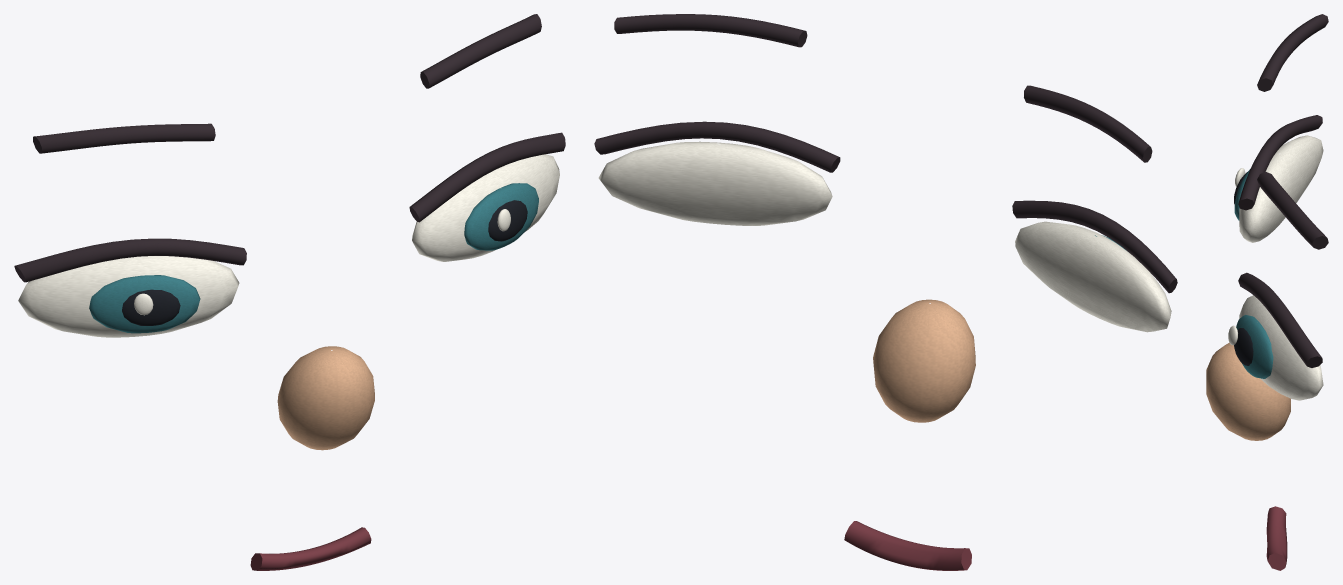
Rendered from face_sleepy.gltf.
The picture shows the model from 3 angles, left to right: view 1: azimuth 30°, elevation 25°; view 2: azimuth 150°, elevation 25°; view 3: azimuth 270°, elevation 25°; orthographic projection. The views are drawn at different scales.
Parts seen in each view (by area): view 1: Soft Morning; view 2: Soft Morning; view 3: Soft Morning.
Boxes of the visible parts, x1=… form: Soft Morning: x1=14, y1=14, x2=565, y2=570; Soft Morning: x1=594, y1=14, x2=1177, y2=570; Soft Morning: x1=1206, y1=14, x2=1328, y2=570.
Size of the model in its own units: 0.2785 by 0.2335 by 0.0597.
Materials: 6 (6 with a texture image).
